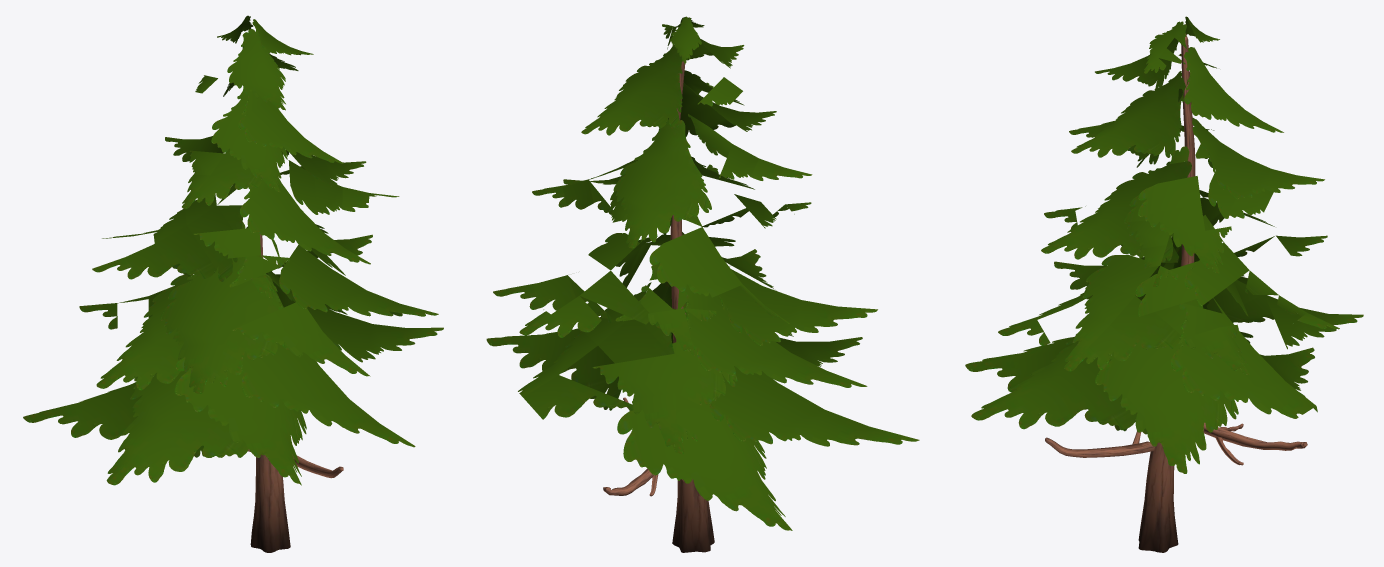
The model's file is pine-natural.mid.quaternius.glb.
3 views of the same model, side by side, from view 1: azimuth 30°, elevation 25°; view 2: azimuth 150°, elevation 25°; view 3: azimuth 270°, elevation 25° (orthographic). The views are drawn at different scales.
Parts seen in each view (by area): view 1: Pine_2; view 2: Pine_2; view 3: Pine_2.
Boxes of the visible parts, bbox=[...] form: Pine_2: bbox=[23, 15, 443, 552]; Pine_2: bbox=[486, 16, 919, 552]; Pine_2: bbox=[965, 16, 1363, 552].
Bounding box in the file's own units: 9.32 × 11.93 × 8.49.
Materials: 2 (2 with a texture image).
